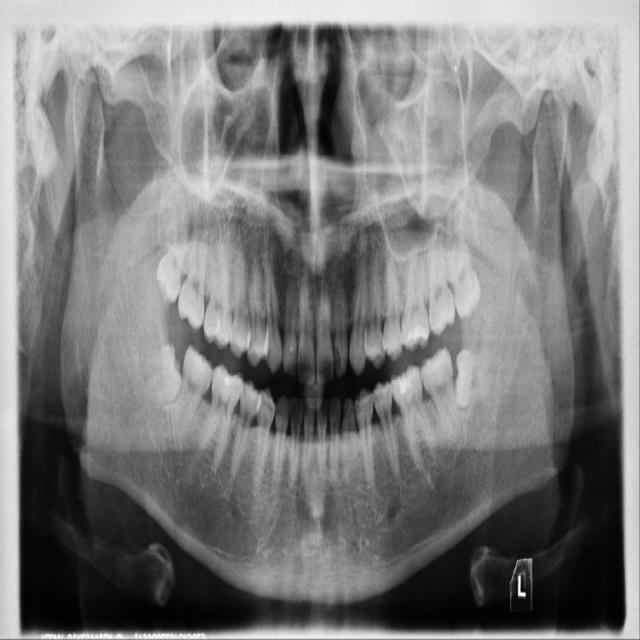Filling: (394, 372, 417, 399), (405, 324, 425, 347)
impacted tooth: (123, 342, 184, 398), (157, 206, 190, 298), (453, 350, 509, 402), (449, 230, 480, 319)
